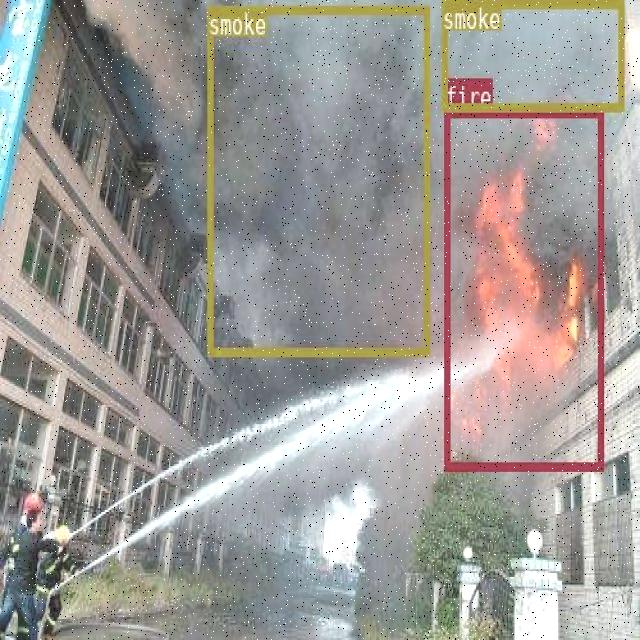fire: (444, 107, 602, 468)
smoke: (207, 4, 428, 355), (442, 0, 624, 109)
